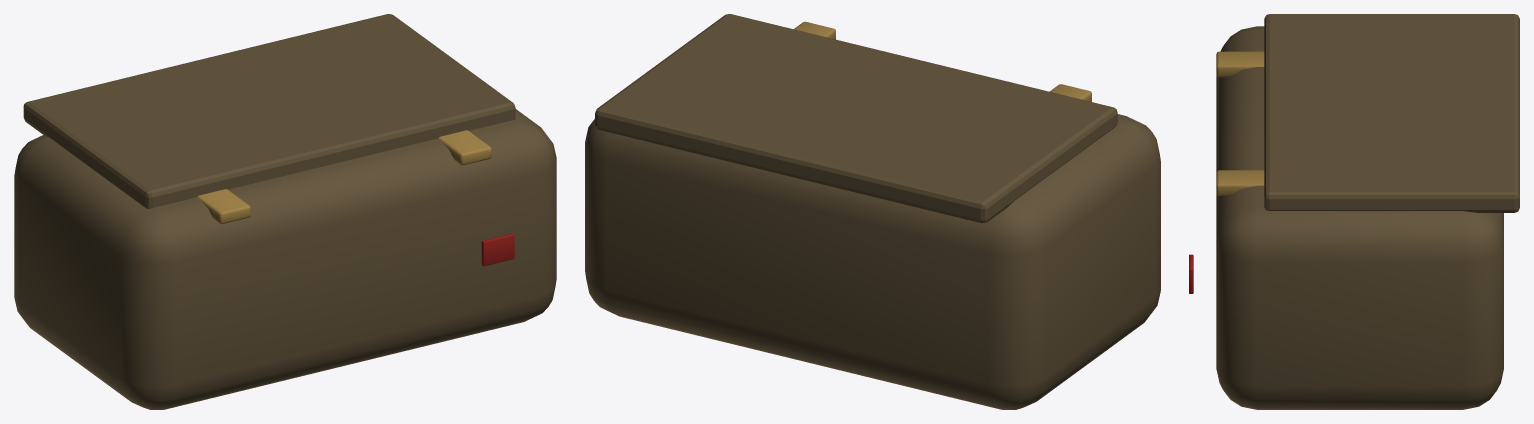
Rendered from prop_duffle.glb.
The picture shows the model from 3 angles, left to right: view 1: azimuth 30°, elevation 25°; view 2: azimuth 150°, elevation 25°; view 3: azimuth 270°, elevation 25°; orthographic projection. The views are drawn at different scales.
Visible parts, largest first — view 1: PropMesh, Lid; view 2: PropMesh, Lid; view 3: PropMesh, Lid.
Part boxes in pixels (box(x1,y1,x2,y2)): PropMesh: box(14, 109, 556, 409); Lid: box(23, 14, 515, 208); PropMesh: box(585, 21, 1160, 409); Lid: box(595, 14, 1117, 223); PropMesh: box(1189, 26, 1503, 409); Lid: box(1264, 14, 1519, 212).
Size of the model in its own units: 1.1 by 0.518 by 0.725.
